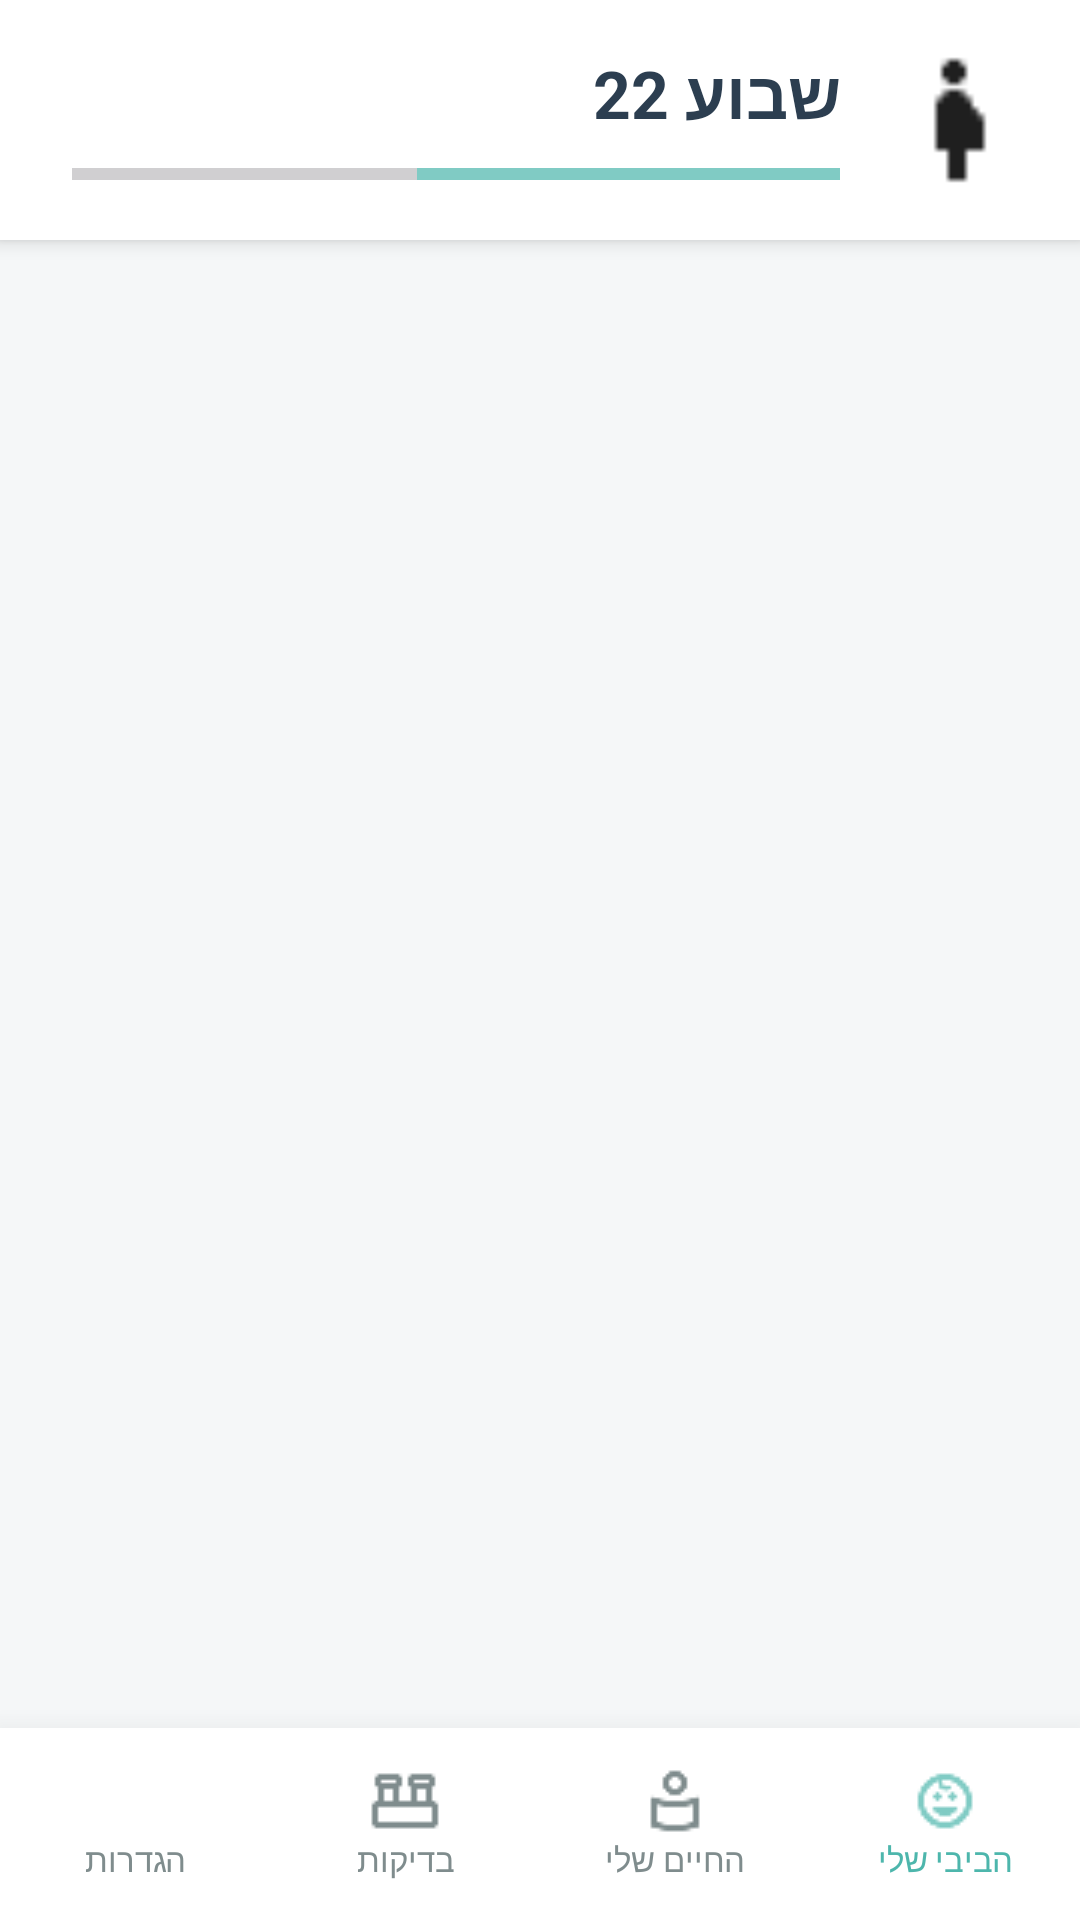

Where to tap for icons on this 1080×1920 app screen, as point (x, y):
pregnant: point (960, 120)
you: point (675, 1801)
